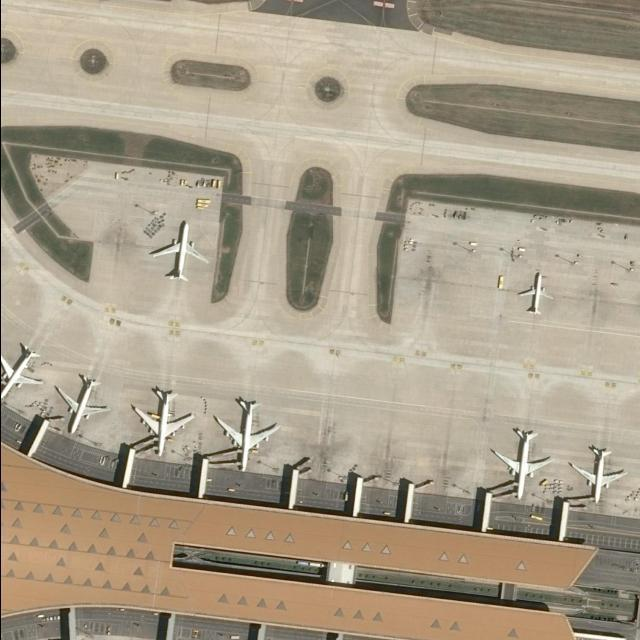Aircraft: (211, 396, 278, 478), (488, 425, 554, 504), (130, 386, 190, 459), (569, 441, 624, 509), (151, 218, 207, 284), (53, 371, 103, 439), (1, 341, 43, 404), (514, 269, 552, 317)
